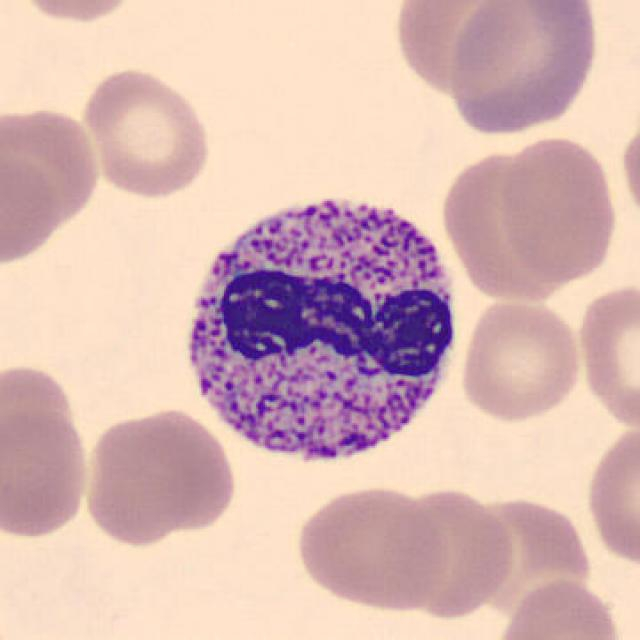Neutrophil: (167, 171, 469, 481)
RBC: (78, 404, 238, 546), (441, 0, 604, 138), (289, 482, 452, 614), (437, 145, 571, 305), (494, 132, 622, 288), (78, 63, 215, 201), (389, 483, 519, 621), (455, 294, 585, 425), (0, 369, 94, 543), (471, 504, 597, 624), (388, 0, 532, 99), (0, 100, 103, 237), (572, 277, 638, 434), (581, 422, 640, 572), (492, 575, 626, 640), (0, 146, 64, 272), (10, 0, 144, 26), (617, 113, 640, 231)
